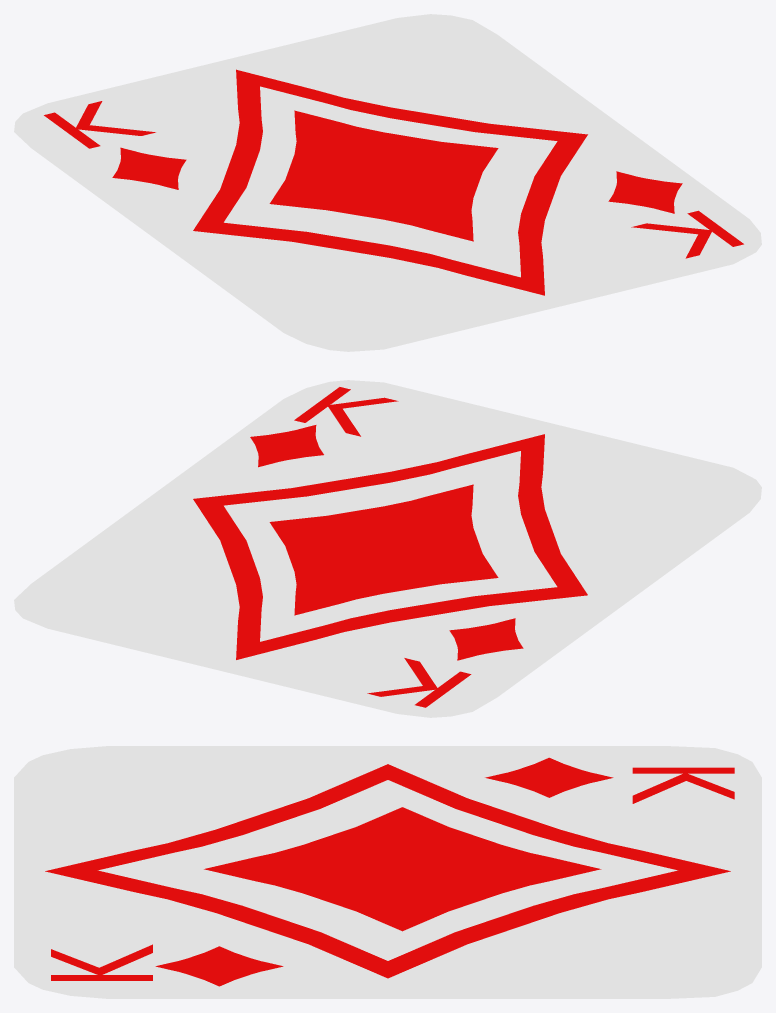
3 renders of one model, top to bottom at view 1: azimuth 30°, elevation 25°; view 2: azimuth 150°, elevation 25°; view 3: azimuth 270°, elevation 25°, orthographic. The views are drawn at different scales.
Parts seen in each view (by area): view 1: KingofDiamonds, Plane.089_White, Plane.090_Materia, Plane.091_Materia, Plane.087_Materia, Plane.088_Materia, Font.030_Bla_Blac.001, Font.029_Bla_Blac.001; view 2: KingofDiamonds, Plane.089_White, Plane.090_Materia, Plane.091_Materia, Plane.087_Materia, Plane.088_Materia, Font.029_Bla_Blac.001, Font.030_Bla_Blac.001; view 3: KingofDiamonds, Plane.089_White, Plane.090_Materia, Plane.091_Materia, Plane.087_Materia, Plane.088_Materia, Font.029_Bla_Blac.001, Font.030_Bla_Blac.001.
Boxes of the visible parts, left/top/right/bottom form: KingofDiamonds: left=14, top=14, right=761, bottom=351; Plane.089_White: left=224, top=86, right=557, bottom=277; Plane.090_Materia: left=269, top=110, right=498, bottom=241; Plane.091_Materia: left=193, top=69, right=587, bottom=295; Plane.087_Materia: left=112, top=147, right=186, bottom=189; Plane.088_Materia: left=608, top=171, right=682, bottom=213; Font.030_Bla_Blac.001: left=631, top=210, right=743, bottom=258; Font.029_Bla_Blac.001: left=44, top=101, right=155, bottom=148; KingofDiamonds: left=14, top=380, right=761, bottom=717; Plane.089_White: left=224, top=451, right=557, bottom=641; Plane.090_Materia: left=269, top=484, right=498, bottom=615; Plane.091_Materia: left=193, top=434, right=587, bottom=659; Plane.087_Materia: left=449, top=618, right=523, bottom=660; Plane.088_Materia: left=250, top=425, right=323, bottom=467; Font.029_Bla_Blac.001: left=367, top=658, right=471, bottom=707; Font.030_Bla_Blac.001: left=294, top=387, right=398, bottom=436; KingofDiamonds: left=14, top=746, right=761, bottom=998; Plane.089_White: left=98, top=780, right=677, bottom=960; Plane.090_Materia: left=204, top=807, right=601, bottom=931; Plane.091_Materia: left=45, top=764, right=730, bottom=978; Plane.087_Materia: left=485, top=757, right=613, bottom=797; Plane.088_Materia: left=155, top=946, right=283, bottom=986; Font.029_Bla_Blac.001: left=632, top=767, right=734, bottom=803; Font.030_Bla_Blac.001: left=51, top=944, right=152, bottom=980.
Bounding box in the file's own units: 1.6 × 0.00974 × 2.
